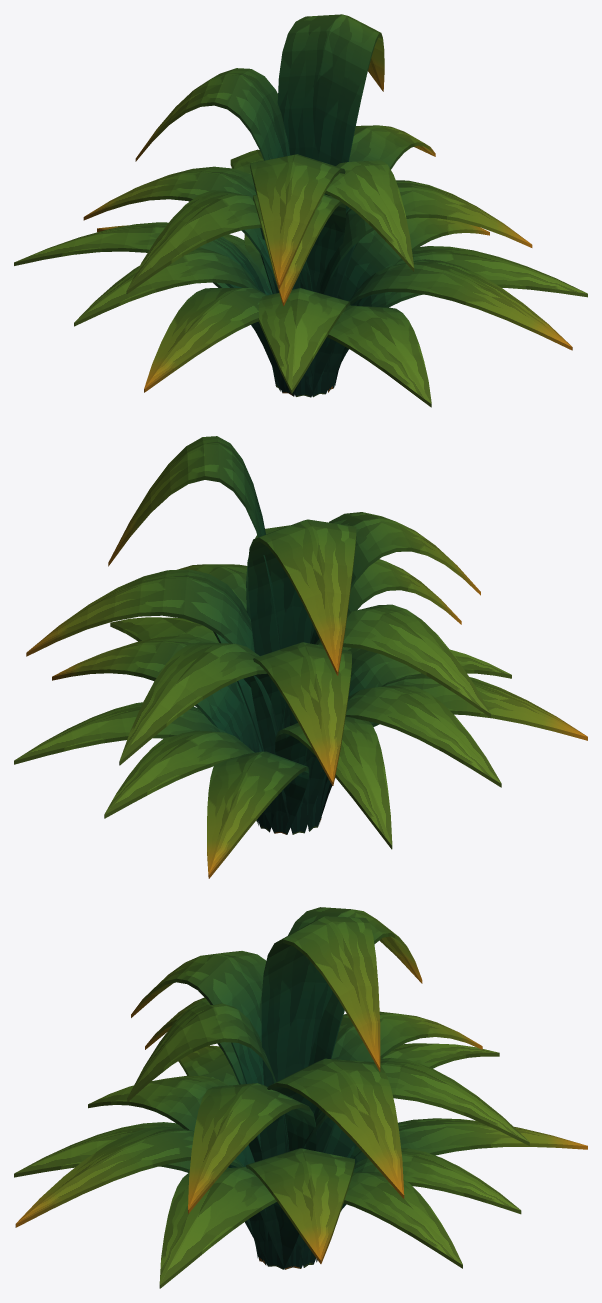
Rendered from Test_Cheon_Grass.fbx.
3 views of the same model, one above another, from view 1: azimuth 30°, elevation 25°; view 2: azimuth 150°, elevation 25°; view 3: azimuth 270°, elevation 25° (orthographic). The views are drawn at different scales.
Parts seen in each view (by area): view 1: Grass_Center_00, Grass_Outer_08, Grass_Center_02, Grass_Outer_06, Grass_Outer_09, Grass_Outer_07, Grass_Middle_03, Grass_Center_01, Grass_Middle_05, Grass_Outer_05, Grass_Middle_06, Grass_Outer_10 (+7 smaller); view 2: Grass_Center_01, Grass_Middle_02, Grass_Middle_00, Grass_Outer_03, Grass_Middle_01, Grass_Outer_05, Grass_Outer_04, Grass_Middle_03, Grass_Center_00, Grass_Outer_00, Grass_Outer_02, Grass_Outer_06 (+6 smaller); view 3: Grass_Center_00, Grass_Middle_00, Grass_Outer_10, Grass_Middle_06, Grass_Outer_00, Grass_Outer_09, Grass_Center_02, Grass_Middle_05, Grass_Outer_01, Grass_Middle_01, Grass_Outer_03, Grass_Middle_02 (+7 smaller).
Boxes of the visible parts, x1,y1,x2,y2 form: Grass_Center_00: [277, 14, 384, 165]; Grass_Outer_08: [304, 305, 431, 407]; Grass_Center_02: [250, 154, 345, 288]; Grass_Outer_06: [144, 288, 297, 396]; Grass_Outer_09: [327, 259, 572, 392]; Grass_Outer_07: [258, 288, 350, 397]; Grass_Middle_03: [126, 190, 312, 293]; Grass_Center_01: [135, 68, 294, 289]; Grass_Middle_05: [292, 160, 414, 289]; Grass_Outer_05: [74, 247, 281, 391]; Grass_Middle_06: [317, 180, 532, 294]; Grass_Outer_10: [334, 246, 587, 387]; Grass_Center_01: [248, 519, 356, 675]; Grass_Middle_02: [250, 642, 351, 785]; Grass_Middle_00: [26, 569, 279, 736]; Grass_Outer_03: [207, 751, 309, 878]; Grass_Middle_01: [119, 642, 297, 765]; Grass_Outer_05: [304, 684, 501, 831]; Grass_Outer_04: [275, 716, 392, 849]; Grass_Middle_03: [281, 604, 490, 729]; Grass_Center_00: [108, 436, 284, 705]; Grass_Outer_00: [52, 635, 259, 752]; Grass_Outer_02: [104, 730, 276, 832]; Grass_Outer_06: [319, 673, 587, 824]; Grass_Center_00: [261, 916, 380, 1086]; Grass_Middle_00: [260, 1058, 404, 1198]; Grass_Outer_10: [159, 1166, 299, 1288]; Grass_Middle_06: [188, 1083, 316, 1213]; Grass_Outer_00: [246, 1148, 354, 1269]; Grass_Outer_09: [15, 1126, 267, 1265]; Grass_Center_02: [131, 951, 266, 1084]; Grass_Middle_05: [127, 999, 289, 1152]; Grass_Outer_01: [296, 1172, 462, 1268]; Grass_Middle_01: [303, 1058, 529, 1148]; Grass_Outer_03: [341, 1118, 587, 1210]; Grass_Middle_02: [315, 1011, 482, 1152].
Size of the model in its own units: 1.05 by 0.7846 by 1.12.
2 materials, 2 textured.
